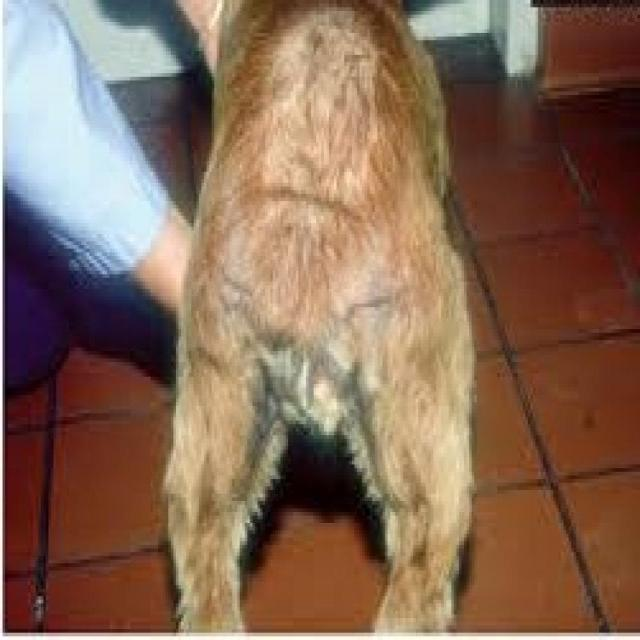allergic dermatitis: (258, 16, 376, 215)
